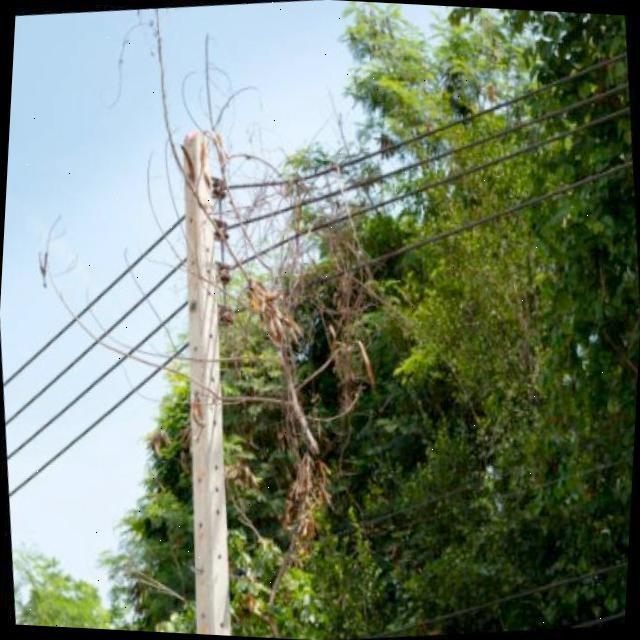critical vegetation: (183, 145, 354, 454)
